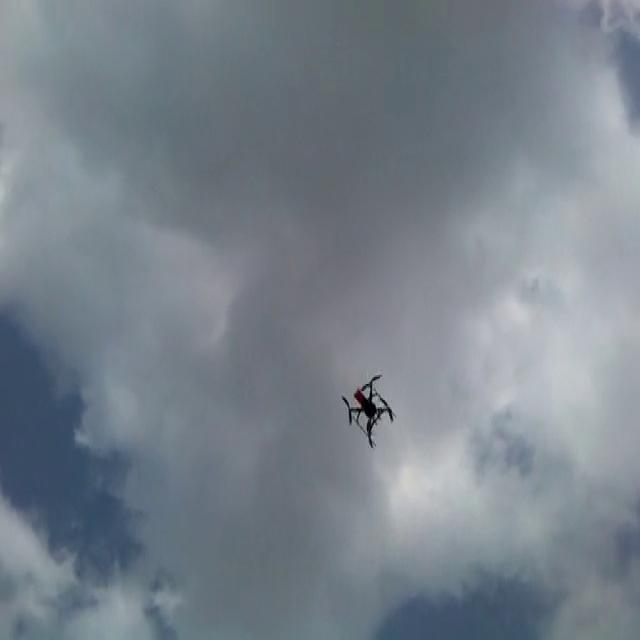drone: (340, 373, 392, 448)
